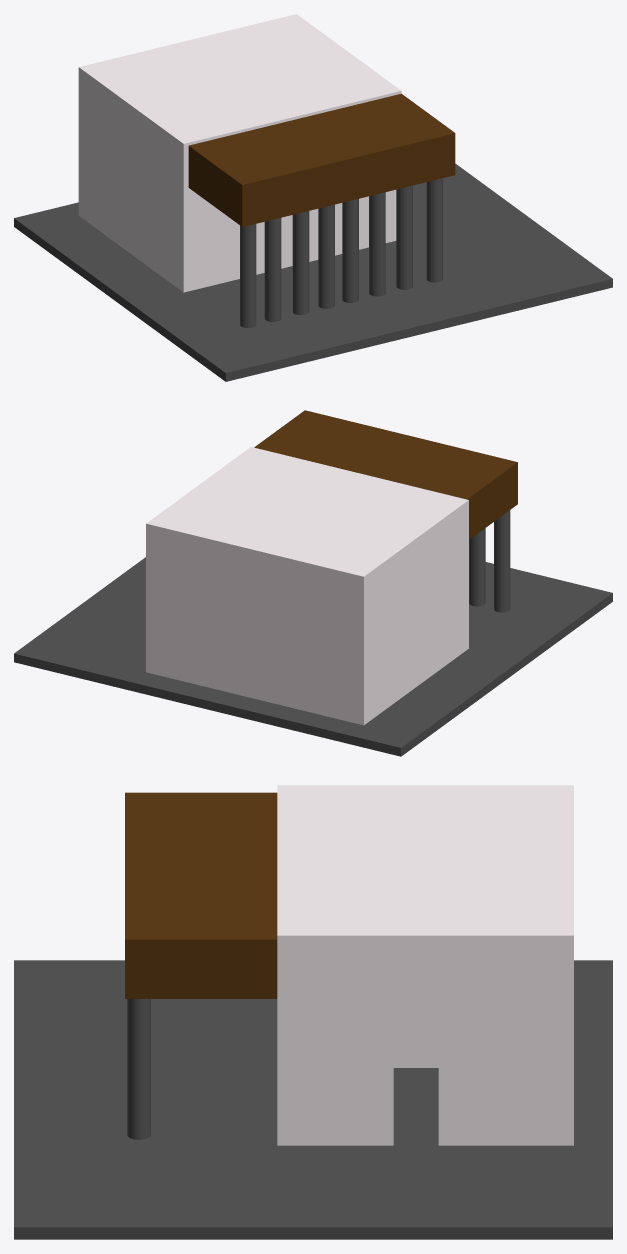
Rendered from home.fbx.
The picture shows the model from 3 angles, top to bottom: view 1: azimuth 30°, elevation 25°; view 2: azimuth 150°, elevation 25°; view 3: azimuth 270°, elevation 25°; orthographic projection. The views are drawn at different scales.
Visible parts, largest first — view 1: Cube, Plane, Cube.001, Cylinder.002, Cylinder.001, Cylinder, Cylinder.007, Cylinder.005, Cylinder.004, Cylinder.006, Cylinder.003; view 2: Cube, Plane, Cube.001, Cylinder, Cylinder.001; view 3: Plane, Cube, Cube.001, Cylinder.007.
Boxes of the visible parts, box(x1,y1,x2,y2) form: Cube: box(78, 14, 401, 292); Plane: box(14, 163, 612, 381); Cube.001: box(188, 93, 455, 226); Cylinder.002: box(292, 211, 309, 315); Cylinder.001: box(264, 218, 281, 321); Cylinder: box(240, 224, 256, 327); Cylinder.007: box(426, 178, 442, 282); Cylinder.005: box(369, 192, 385, 296); Cylinder.004: box(342, 199, 358, 302); Cylinder.006: box(396, 185, 412, 289); Cylinder.003: box(318, 204, 334, 308); Cube: box(146, 447, 468, 725); Plane: box(14, 557, 612, 756); Cube.001: box(254, 410, 517, 539); Cylinder: box(494, 510, 510, 612); Cylinder.001: box(469, 528, 485, 606); Plane: box(14, 960, 612, 1239); Cube: box(277, 785, 573, 1145); Cube.001: box(125, 792, 277, 998); Cylinder.007: box(127, 999, 150, 1139).
Size of the model in its own units: 3815 by 1482 by 3617.
